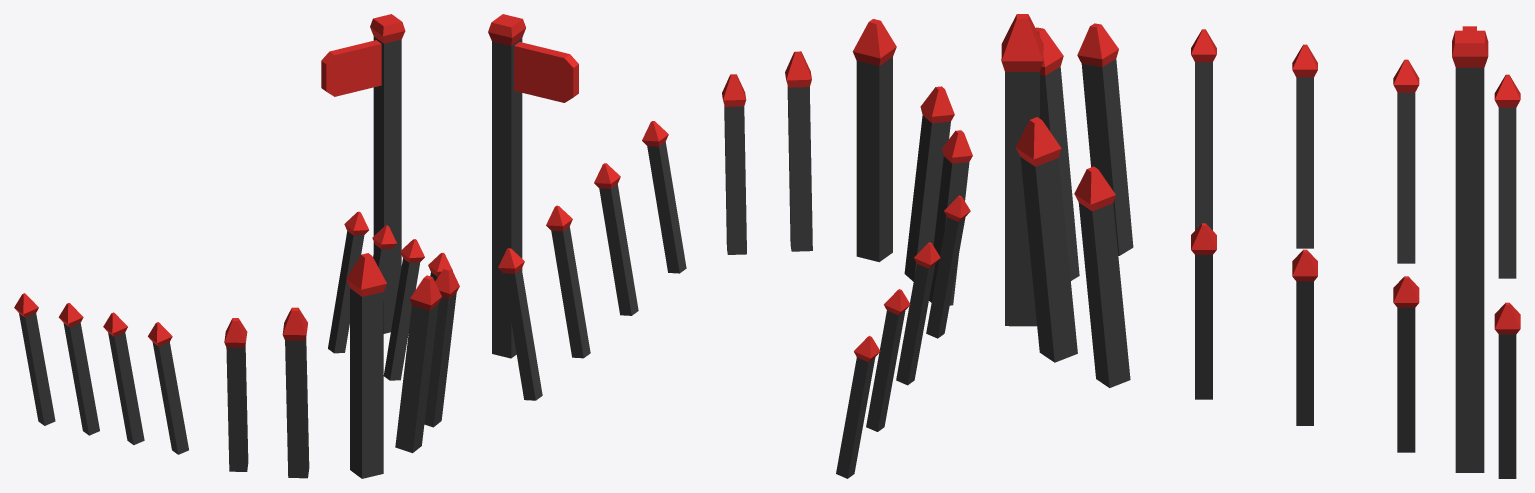
The model's file is SpikesLevel2.fbx.
The picture shows the model from 3 angles, left to right: view 1: azimuth 30°, elevation 25°; view 2: azimuth 150°, elevation 25°; view 3: azimuth 270°, elevation 25°; orthographic projection. The views are drawn at different scales.
Parts seen in each view (by area): view 1: Cube.001; view 2: Cube.001; view 3: Cube.001.
Part boxes in pixels (bbox=[...]): Cube.001: bbox=[14, 14, 459, 478]; Cube.001: bbox=[488, 14, 972, 478]; Cube.001: bbox=[1001, 14, 1520, 478].
Size of the model in its own units: 158 by 137 by 139.
